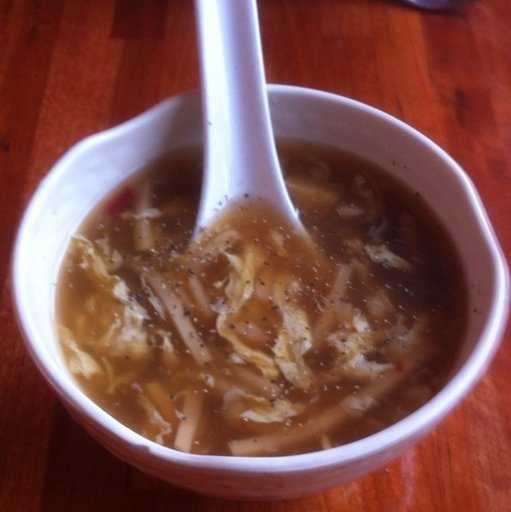soup: (59, 106, 422, 450)
